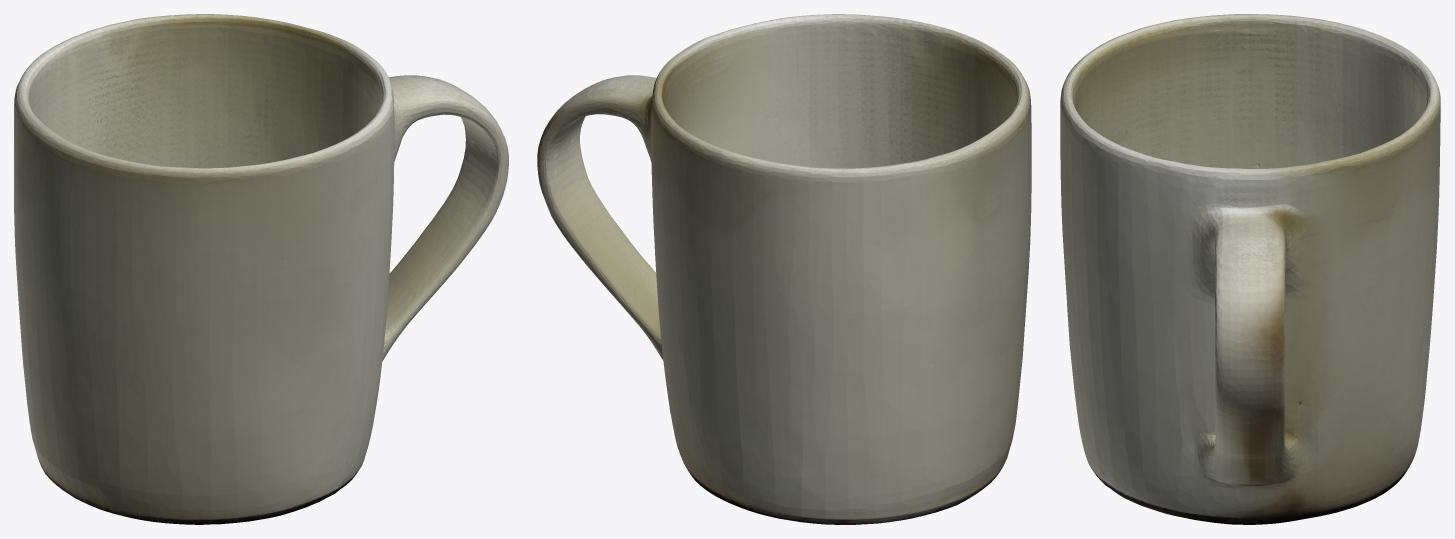
The model's file is shuibei.glb.
3 views of the same model, side by side, from view 1: azimuth 30°, elevation 25°; view 2: azimuth 150°, elevation 25°; view 3: azimuth 270°, elevation 25° (orthographic).
Visible parts, largest first — view 1: world; view 2: world; view 3: world.
Part boxes in pixels (x1,y1,x2,y2): world: (14, 14, 508, 524); world: (537, 14, 1031, 524); world: (1060, 14, 1440, 524).
Size of the model in its own units: 0.9978 by 0.7616 by 0.7118.
Materials: 1 (1 with a texture image).
